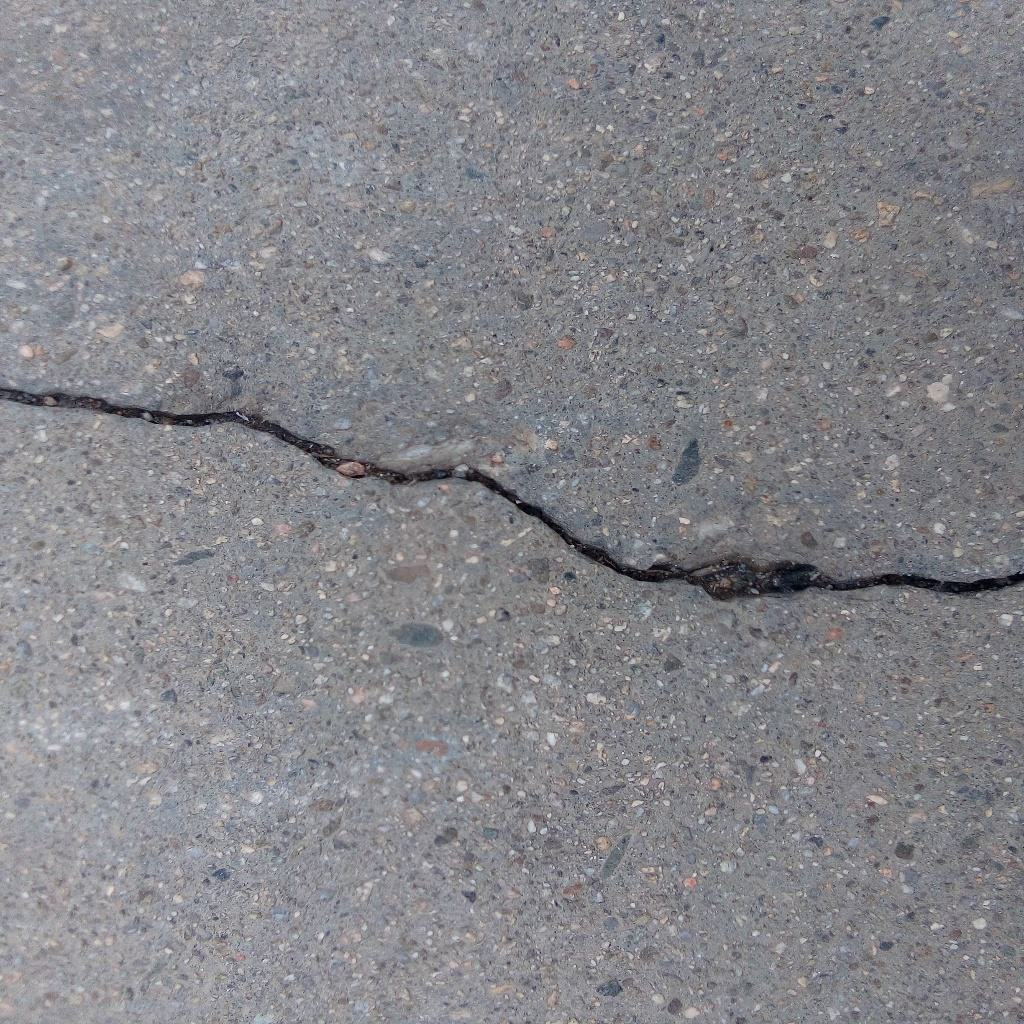Crack: (1, 385, 1024, 604)
